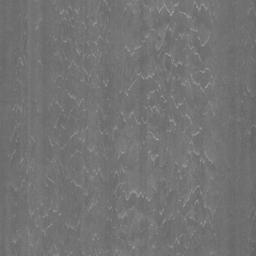Silk spot: (0, 0, 256, 256), (228, 0, 256, 67), (2, 0, 27, 75), (249, 184, 256, 256)
